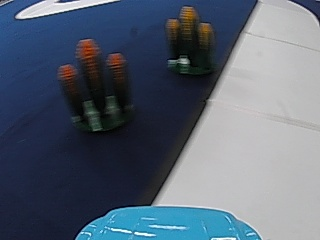corn: (57, 36, 134, 130), (164, 3, 217, 79)
